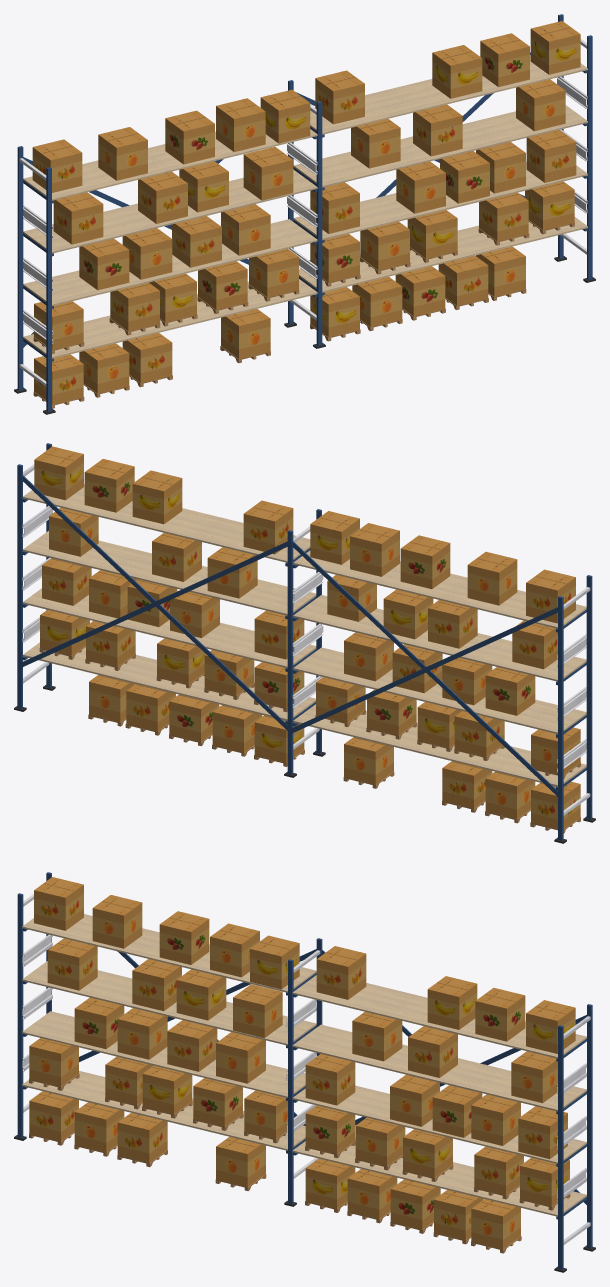
The model's file is BigShelves02Group3.glb.
The picture shows the model from 3 angles, top to bottom: view 1: azimuth 30°, elevation 25°; view 2: azimuth 150°, elevation 25°; view 3: azimuth 330°, elevation 25°; orthographic projection.
Parts seen in each view (by area): view 1: Cardboard_box08, Cardboard_box07, BigShelves02, BigShelvesWoodBox; view 2: BigShelves02, Cardboard_box08, Cardboard_box07, BigShelvesWoodBox; view 3: Cardboard_box08, Cardboard_box07, BigShelves02, BigShelvesWoodBox.
Part boxes in pixels (x1=…): Cardboard_box08: x1=34, y1=21, x2=580, y2=393; Cardboard_box07: x1=32, y1=33, x2=576, y2=404; BigShelves02: x1=14, y1=14, x2=595, y2=414; BigShelvesWoodBox: x1=33, y1=220, x2=574, y2=408; BigShelves02: x1=14, y1=443, x2=595, y2=843; Cardboard_box08: x1=34, y1=446, x2=580, y2=818; Cardboard_box07: x1=42, y1=459, x2=580, y2=828; BigShelvesWoodBox: x1=39, y1=645, x2=580, y2=833; Cardboard_box08: x1=29, y1=895, x2=575, y2=1249; Cardboard_box07: x1=29, y1=877, x2=567, y2=1240; BigShelves02: x1=14, y1=872, x2=595, y2=1272; BigShelvesWoodBox: x1=29, y1=1073, x2=570, y2=1253.
Size of the model in its own units: 17.75 by 7.59 by 1.81.
9 materials, 9 textured.
